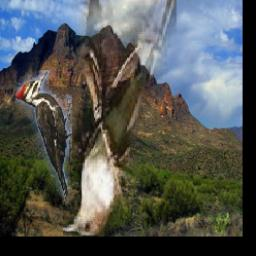Cuckoo: (63, 0, 177, 236)
Woodpecker: (14, 70, 71, 206)
